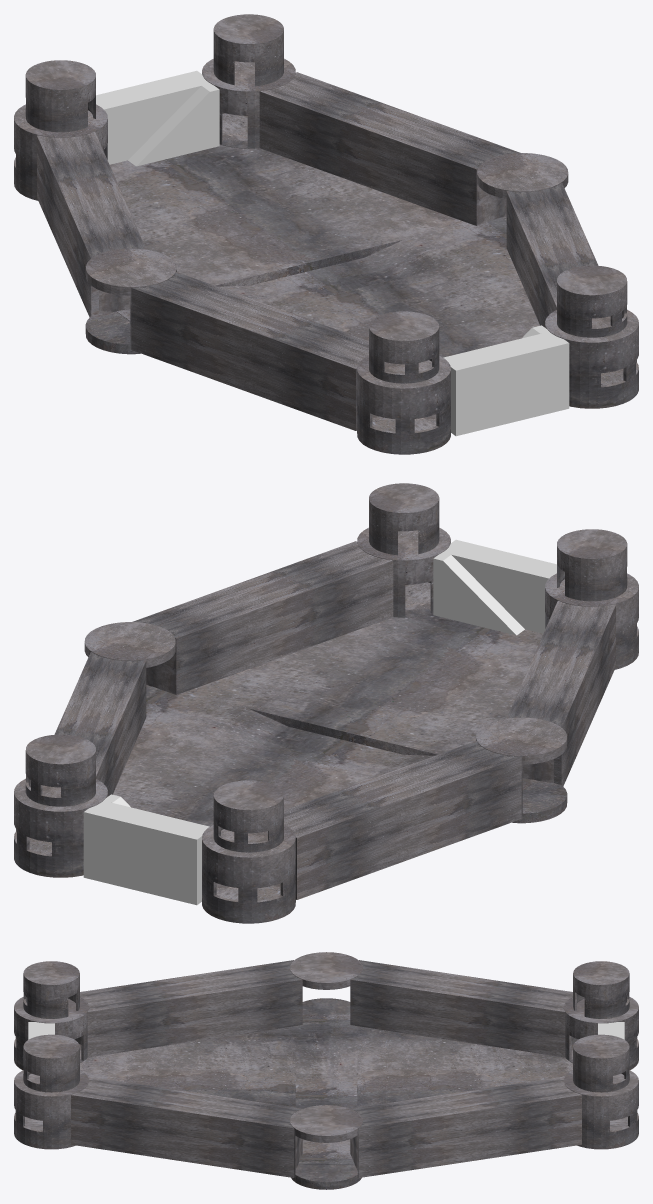
The model's file is fort.glb.
3 views of the same model, one above another, from view 1: azimuth 30°, elevation 25°; view 2: azimuth 150°, elevation 25°; view 3: azimuth 270°, elevation 25° (orthographic). The views are drawn at different scales.
Visible parts, largest first — view 1: Walls, Ground, Rooms, Cube, UpperCornerRooms, TunnelTower.001, TunnelTower; view 2: Walls, Ground, Rooms, Cube, UpperCornerRooms, TunnelTower.001, TunnelTower; view 3: Walls, Ground, UpperCornerRooms, Rooms, TunnelTower, TunnelTower.001, Cube.
Part boxes in pixels (x1,y1,x2,y2): Walls: (37,72,598,430); Ground: (110,144,539,357); Rooms: (14,58,638,454); Cube: (96,70,569,436); UpperCornerRooms: (25,14,627,383); TunnelTower.001: (85,248,176,354); TunnelTower: (477,153,568,221); Walls: (54,541,615,899); Ground: (113,613,542,826); Rooms: (14,527,638,923); Cube: (83,539,556,905); UpperCornerRooms: (25,483,627,852); TunnelTower.001: (476,717,567,823); TunnelTower: (84,622,175,690); Walls: (71,960,581,1177); Ground: (80,1014,572,1164); UpperCornerRooms: (23,961,629,1092); Rooms: (14,997,638,1149); TunnelTower: (290,1105,362,1189); TunnelTower.001: (290,952,362,1014); Cube: (28,1022,624,1039).
Bounding box in the file's own units: 98.03 × 21.89 × 141.
2 materials, 2 textured.
